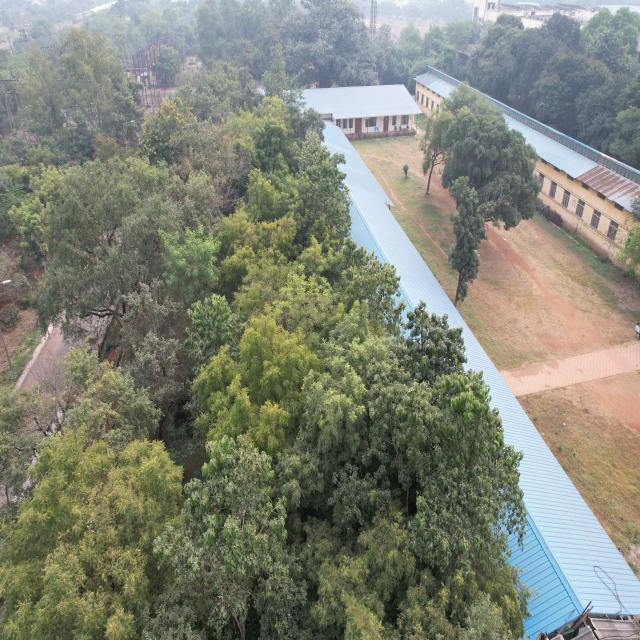Devakanchan tree: (376, 363, 502, 564), (194, 473, 311, 640), (47, 187, 162, 321)
Mango Tree: (451, 113, 534, 288)
Neem Tree: (31, 443, 159, 627), (239, 176, 318, 330), (209, 347, 300, 443)
